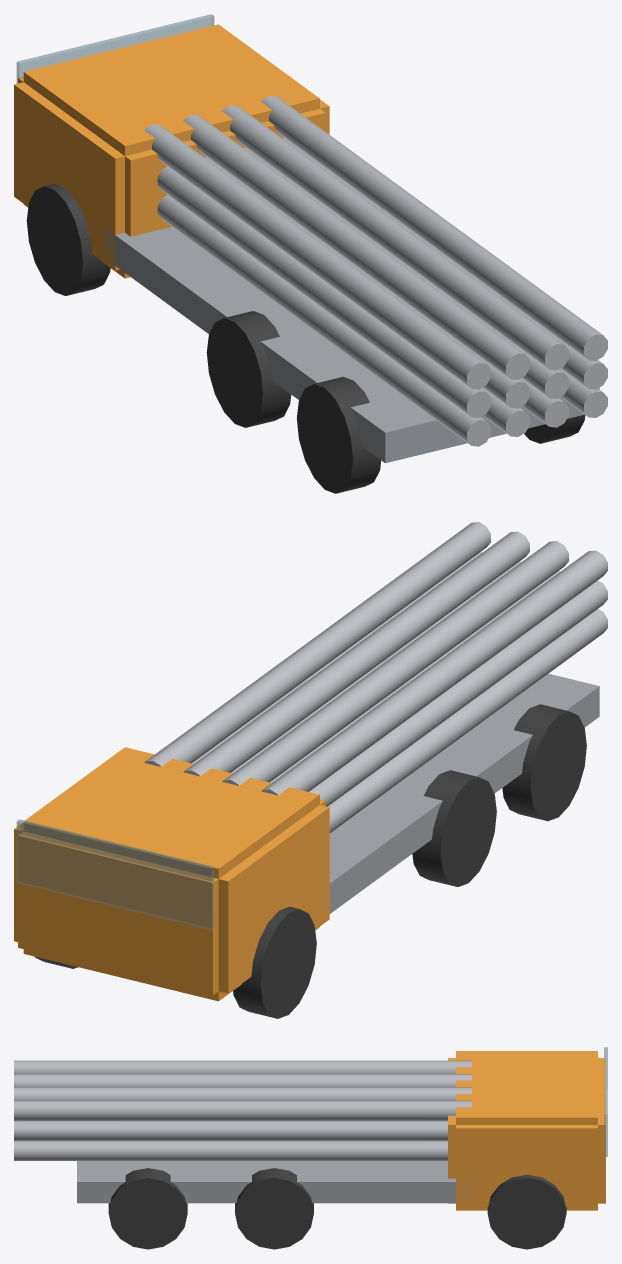
File: pipe_truck.glb
The picture shows the model from 3 angles, top to bottom: view 1: azimuth 30°, elevation 25°; view 2: azimuth 150°, elevation 25°; view 3: azimuth 270°, elevation 25°; orthographic projection. The views are drawn at different scales.
Parts seen in each view (by area): view 1: pipe_truck; view 2: pipe_truck; view 3: pipe_truck.
Part boxes in pixels (<box>): pipe_truck: <box>14,14,607,493</box>; pipe_truck: <box>14,522,607,1018</box>; pipe_truck: <box>14,1047,607,1249</box>.
Bounding box in the file's own units: 2.4 × 1.8 × 7.53.
